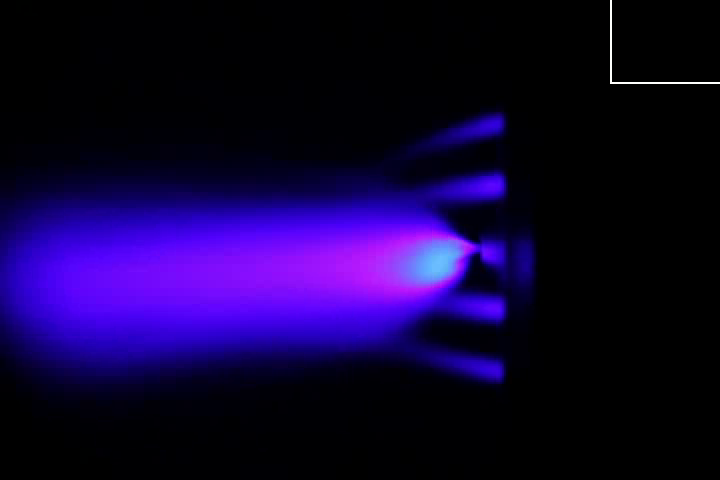burner cap: (476, 234, 509, 270)
pilot flame: (402, 347, 508, 386), (434, 285, 508, 327), (398, 174, 507, 202), (419, 113, 505, 147)
stable: (334, 213, 479, 294)
